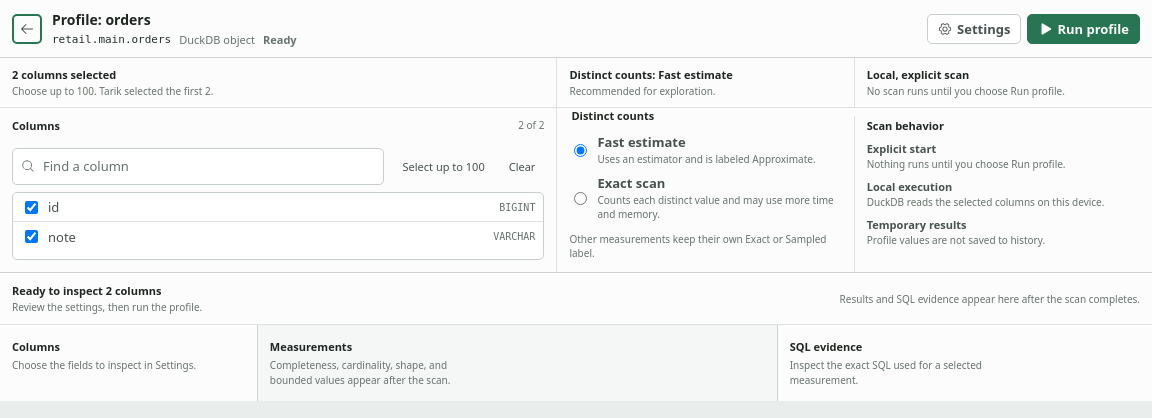
Test case: ProfileWorkspace › shows each terminal error once and allows an explicit retry
Click the button "Run profile" at (1084, 28), box [1027, 14, 1140, 44]
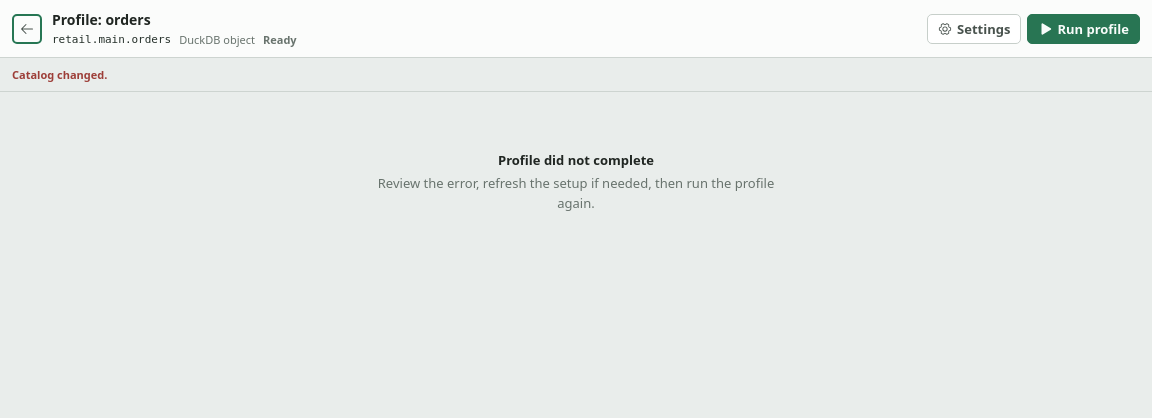
expect the text "Profile did not complete" is shown: met, box [498, 151, 654, 169]
expect the text "Catalog changed." is shown once: met, box [12, 67, 107, 82]
